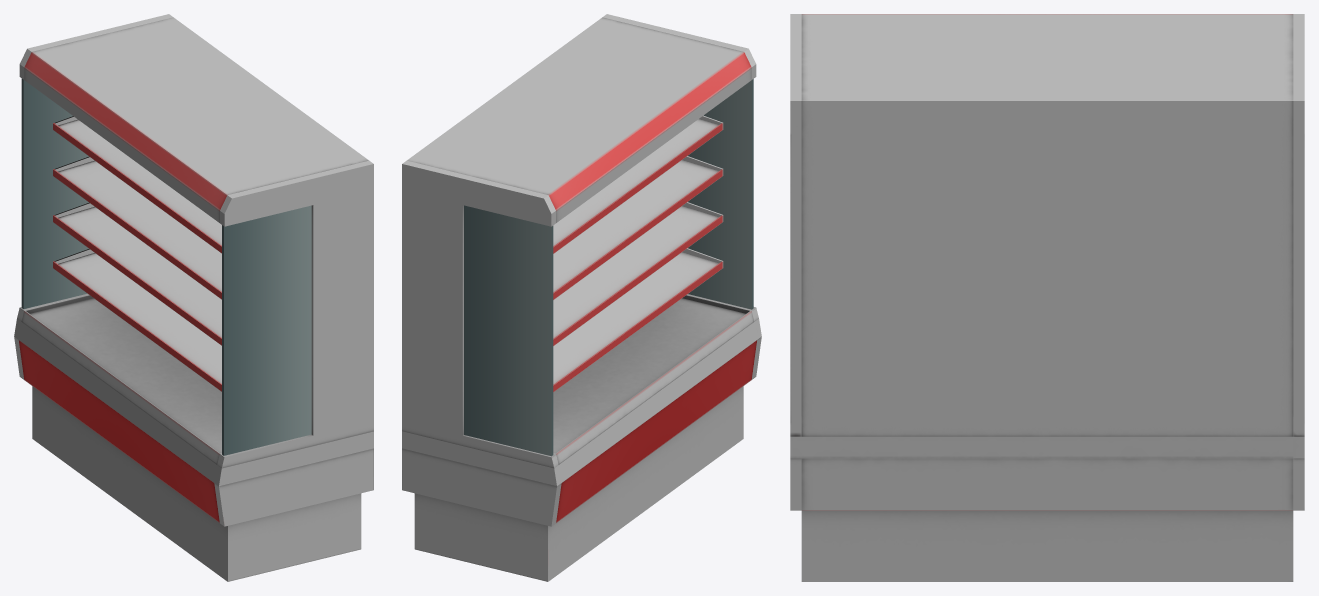
The model's file is sp_refrigerated_2.FBX.
3 renders of one model, left to right at view 1: azimuth 30°, elevation 25°; view 2: azimuth 150°, elevation 25°; view 3: azimuth 270°, elevation 25°, orthographic. The views are drawn at different scales.
Parts seen in each view (by area): view 1: sp_refrigerated_2; view 2: sp_refrigerated_2; view 3: sp_refrigerated_2.
Part boxes in pixels (x1=…): sp_refrigerated_2: x1=14, y1=14, x2=373, y2=581; sp_refrigerated_2: x1=402, y1=14, x2=761, y2=581; sp_refrigerated_2: x1=790, y1=14, x2=1304, y2=581.
Bounding box in the file's own units: 32.67 × 74.8 × 77.95.
